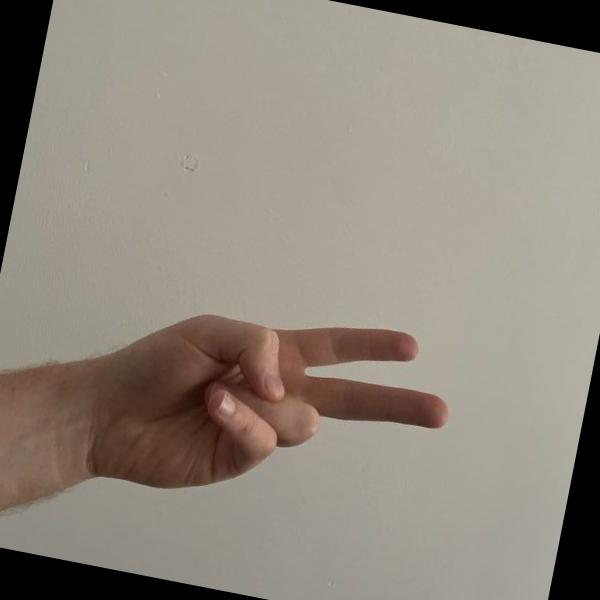scissors: (71, 272, 473, 552)
